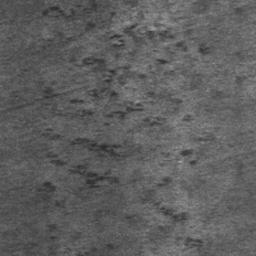Rolled in scale: (7, 0, 234, 256), (31, 225, 113, 256), (37, 182, 69, 216), (0, 19, 14, 40), (206, 211, 217, 222), (125, 215, 137, 220)
